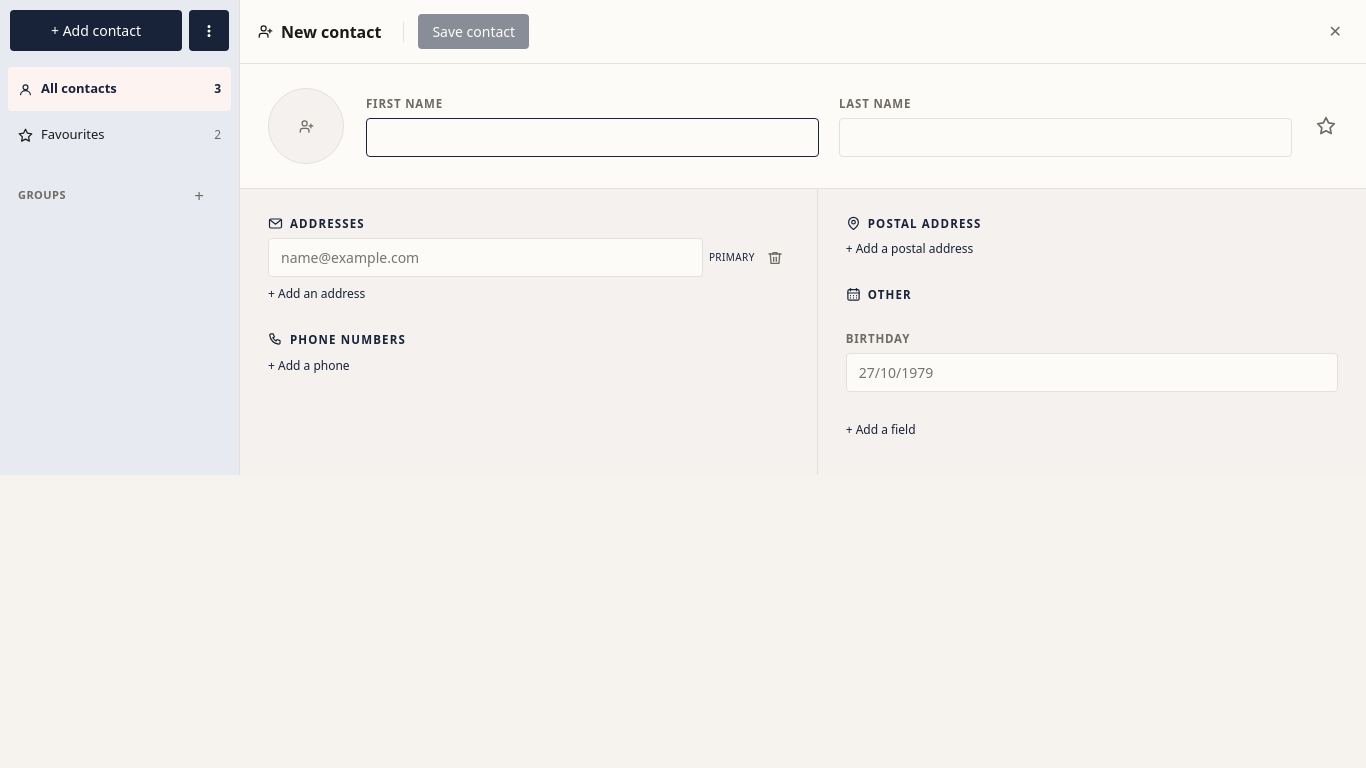
ContactsLayout › keeps the editor open and shows the local fallback when a save is refused
The image size is (1366, 768).
Type "Bruno" into the field labelled "First name".
click(592, 138); type("Bruno")  # box [366, 118, 819, 157]
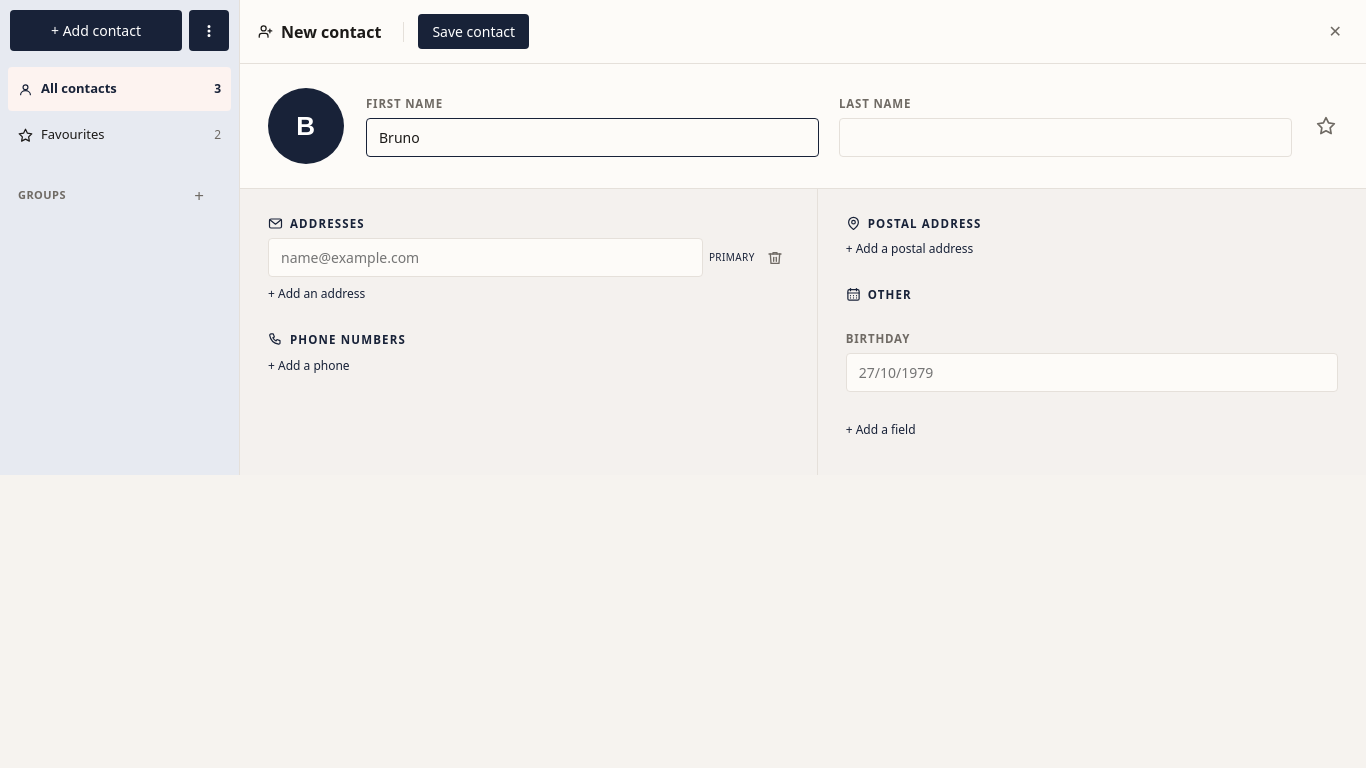
Click the button "Save contact".
click(474, 32)  # box [418, 14, 529, 49]
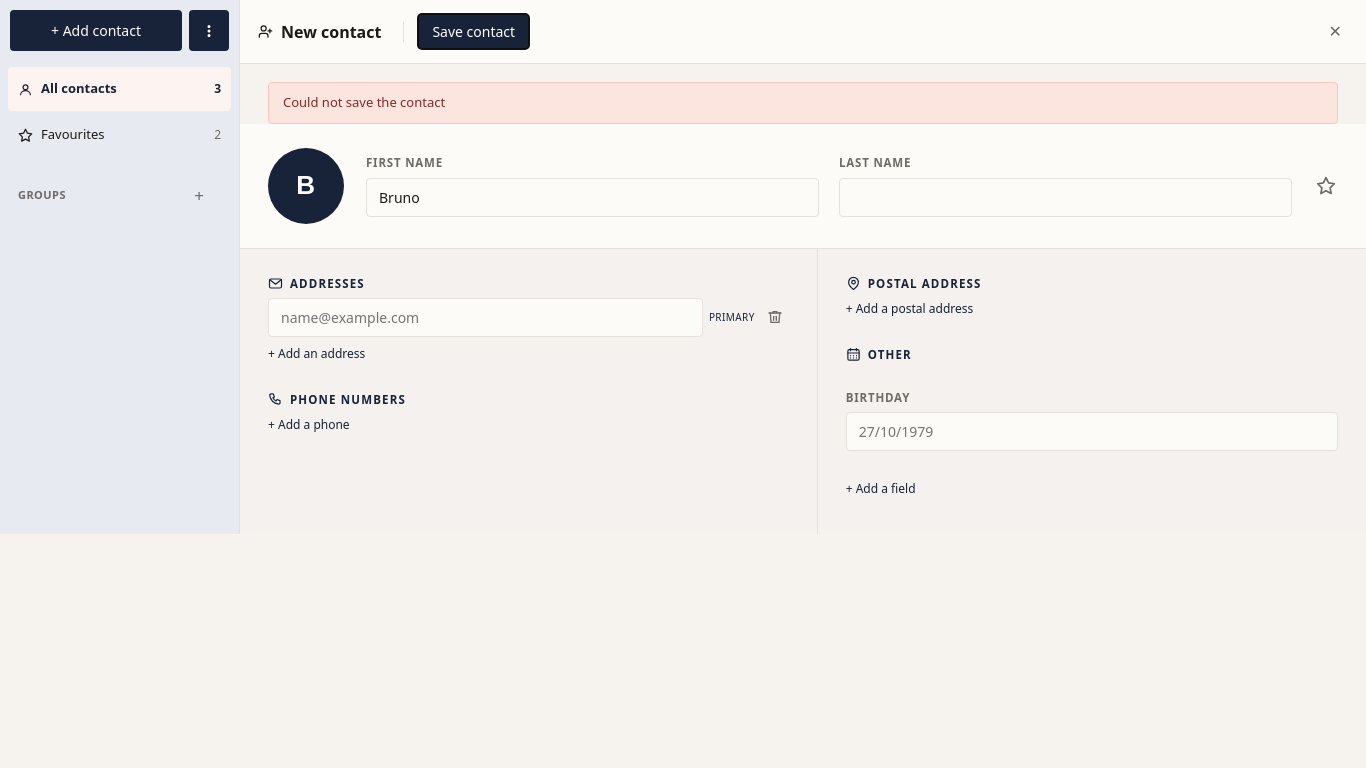
Expected: the heading "New contact" is shown, [258, 20, 381, 42]
Expected: the message reads "Could not save the contact", [283, 93, 445, 111]
